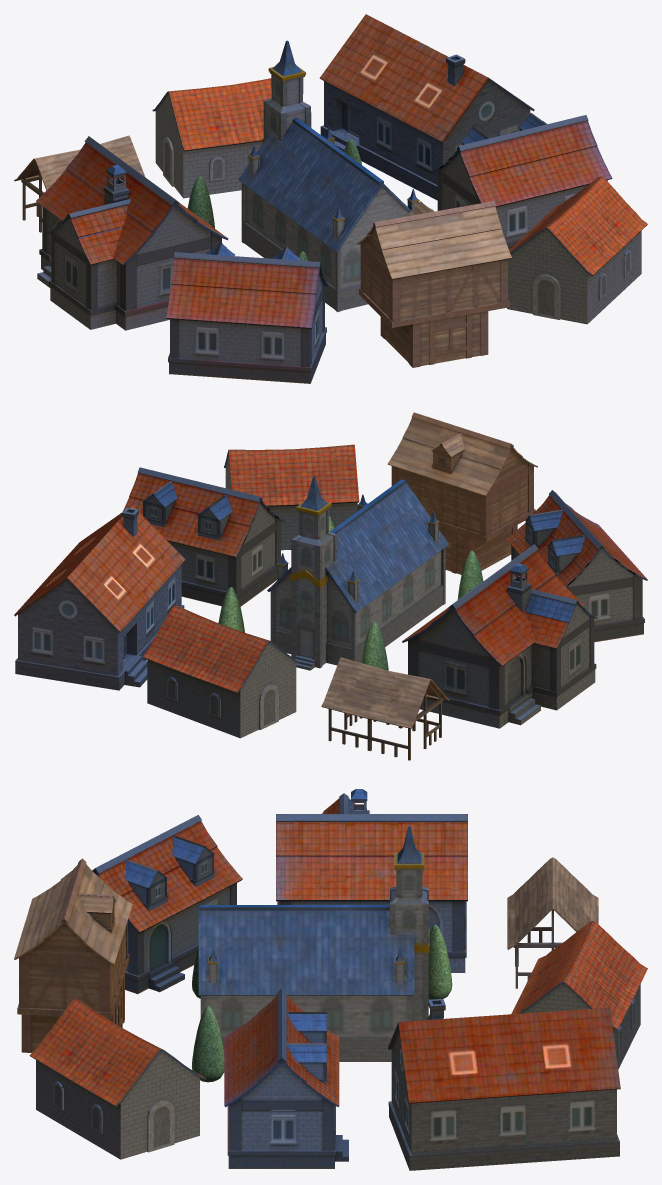
File: city_european_0.glb
The picture shows the model from 3 angles, top to bottom: view 1: azimuth 30°, elevation 25°; view 2: azimuth 150°, elevation 25°; view 3: azimuth 270°, elevation 25°; orthographic projection. The views are drawn at different scales.
Visible parts, largest first — view 1: 0002_low.013; view 2: 0002_low.013; view 3: 0002_low.013.
Boxes of the visible parts, x1,y1,x2,y2 form: 0002_low.013: (14, 14, 647, 383); 0002_low.013: (14, 412, 647, 760); 0002_low.013: (14, 789, 647, 1170).
Bounding box in the file's own units: 10.64 × 3.98 × 10.67.
4 materials, 4 textured.
